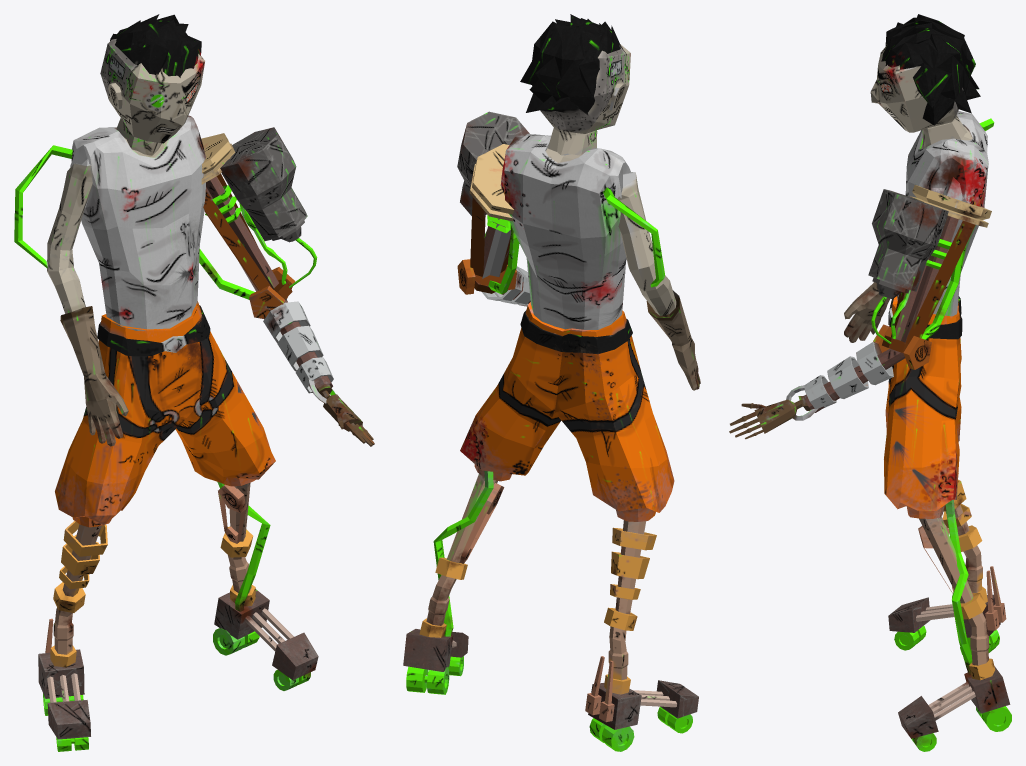
File: CyborgFINALAnimation_000036.obj
3 renders of one model, left to right at view 1: azimuth 30°, elevation 25°; view 2: azimuth 150°, elevation 25°; view 3: azimuth 270°, elevation 25°, orthographic. The views are drawn at different scales.
Parts seen in each view (by area): view 1: CyborgMesh_Cube.002; view 2: CyborgMesh_Cube.002; view 3: CyborgMesh_Cube.002.
Boxes of the visible parts, x1=… form: CyborgMesh_Cube.002: x1=14, y1=14, x2=374, y2=751; CyborgMesh_Cube.002: x1=403, y1=14, x2=700, y2=751; CyborgMesh_Cube.002: x1=729, y1=14, x2=1011, y2=751.
Bounding box in the file's own units: 3.86 × 9.68 × 3.72.
